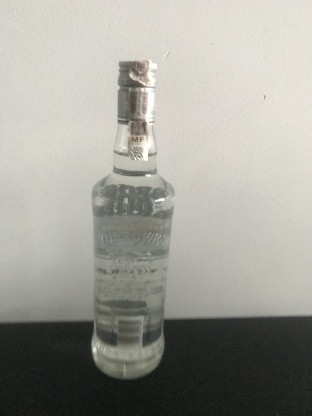nakretka: (115, 57, 159, 126)
